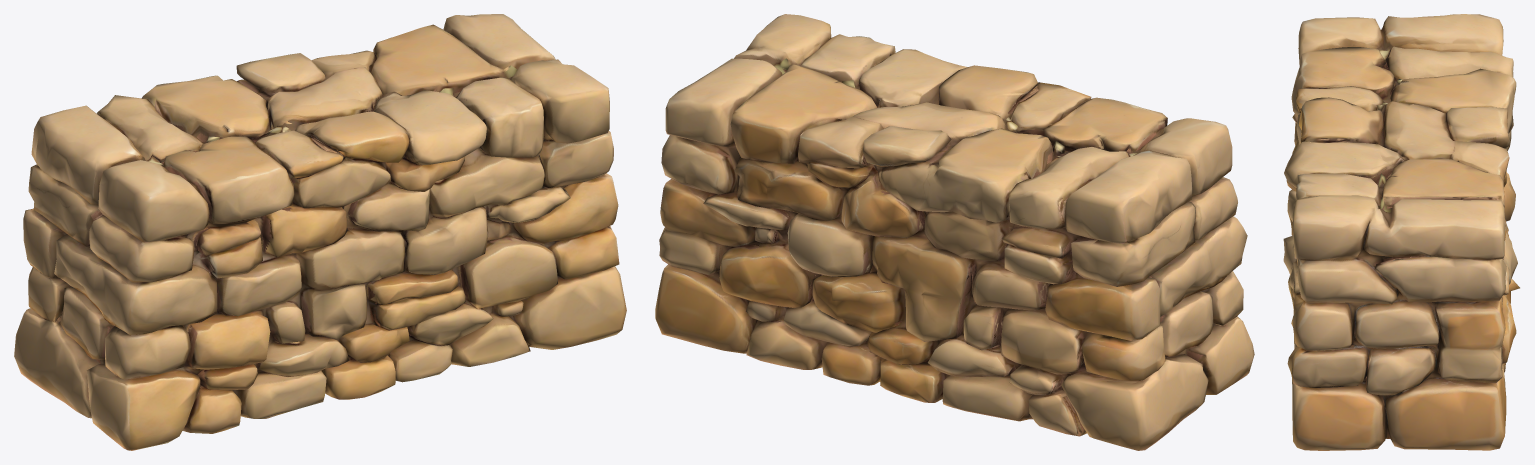
Rendered from A_cartoon_stone_wall__0618144340_texture.fbx.
The picture shows the model from 3 angles, left to right: view 1: azimuth 30°, elevation 25°; view 2: azimuth 150°, elevation 25°; view 3: azimuth 270°, elevation 25°; orthographic projection. The views are drawn at different scales.
Parts seen in each view (by area): view 1: Mesh_0; view 2: Mesh_0; view 3: Mesh_0.
Part boxes in pixels (left/top/right/bottom): Mesh_0: left=14, top=14, right=626, bottom=450; Mesh_0: left=655, top=14, right=1254, bottom=450; Mesh_0: left=1283, top=14, right=1519, bottom=450.
Bounding box in the file's own units: 200 × 96.64 × 90.13.
Materials: 1 (1 with a texture image).
